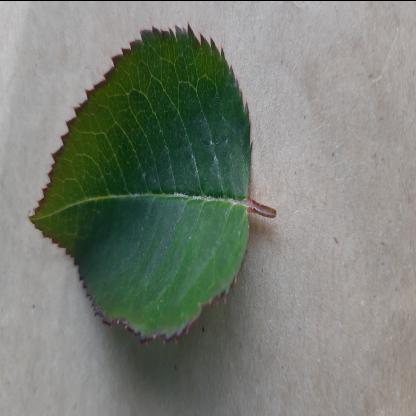normal: (29, 21, 254, 347)
